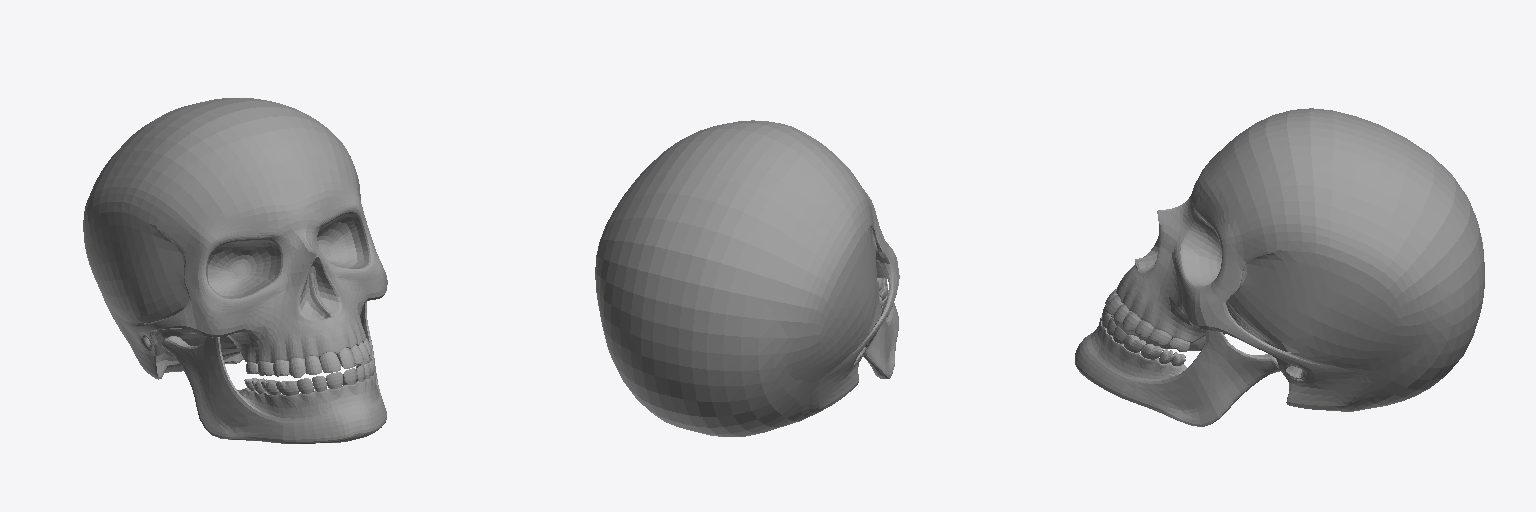
The model's file is Skull.obj.
3 views of the same model, side by side, from view 1: azimuth 30°, elevation 25°; view 2: azimuth 150°, elevation 25°; view 3: azimuth 270°, elevation 25° (orthographic).
Parts seen in each view (by area): view 1: Skull_Object01; view 2: Skull_Object01; view 3: Skull_Object01.
Part boxes in pixels (left/top/right/bottom): Skull_Object01: left=83, top=98, right=387, bottom=443; Skull_Object01: left=595, top=120, right=899, bottom=436; Skull_Object01: left=1075, top=108, right=1484, bottom=426.
Size of the model in its own units: 0.991 by 1.1 by 1.52.